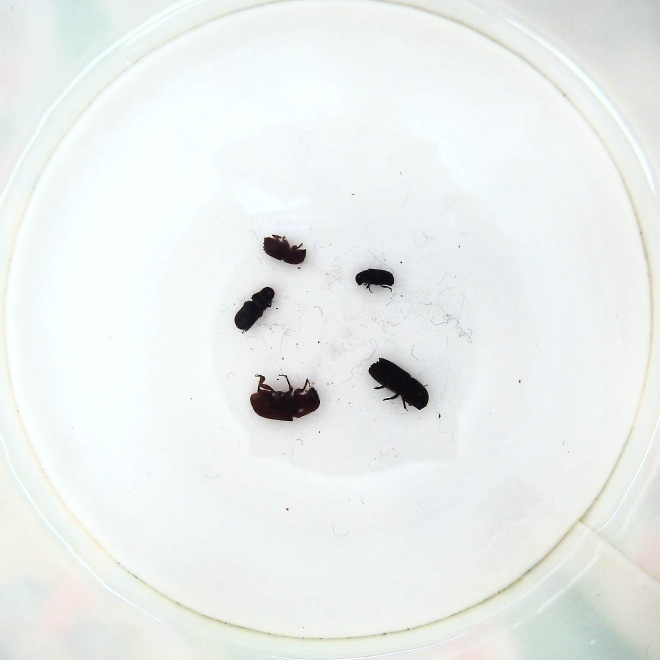armandi: (232, 284, 276, 335)
boerner: (367, 356, 429, 412)
coleoptera: (353, 268, 398, 294)
leconte: (249, 371, 322, 424)
linnaeus: (259, 232, 307, 267)
